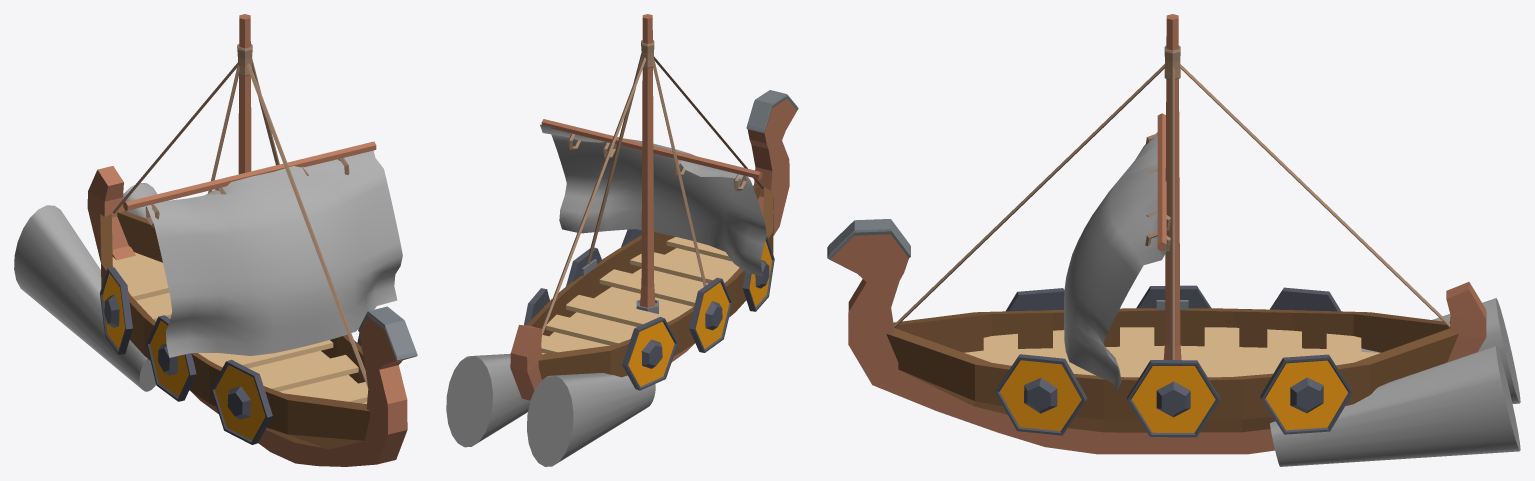
Rendered from Longspace Fixed.fbx.
The picture shows the model from 3 angles, left to right: view 1: azimuth 30°, elevation 25°; view 2: azimuth 150°, elevation 25°; view 3: azimuth 270°, elevation 25°; orthographic projection. The views are drawn at different scales.
Visible parts, largest first — view 1: polySurface2, polySurface1; view 2: polySurface2, polySurface1; view 3: polySurface2, polySurface1.
Part boxes in pixels (<box>): polySurface2: <box>14,14,417,466</box>; polySurface1: <box>146,150,402,357</box>; polySurface2: <box>446,14,798,466</box>; polySurface1: <box>540,124,766,276</box>; polySurface2: <box>827,14,1520,466</box>; polySurface1: <box>1064,132,1168,394</box>.
Bounding box in the file's own units: 313 × 488 × 709.
